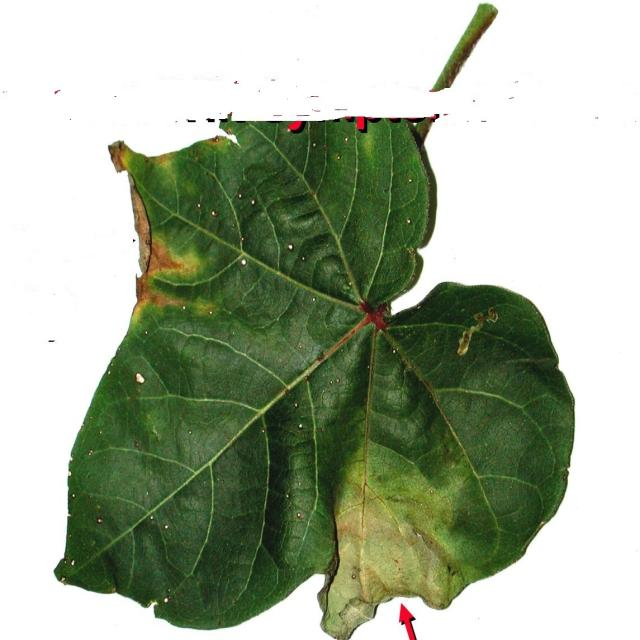Leaf Curl Virus: (110, 104, 488, 640)
